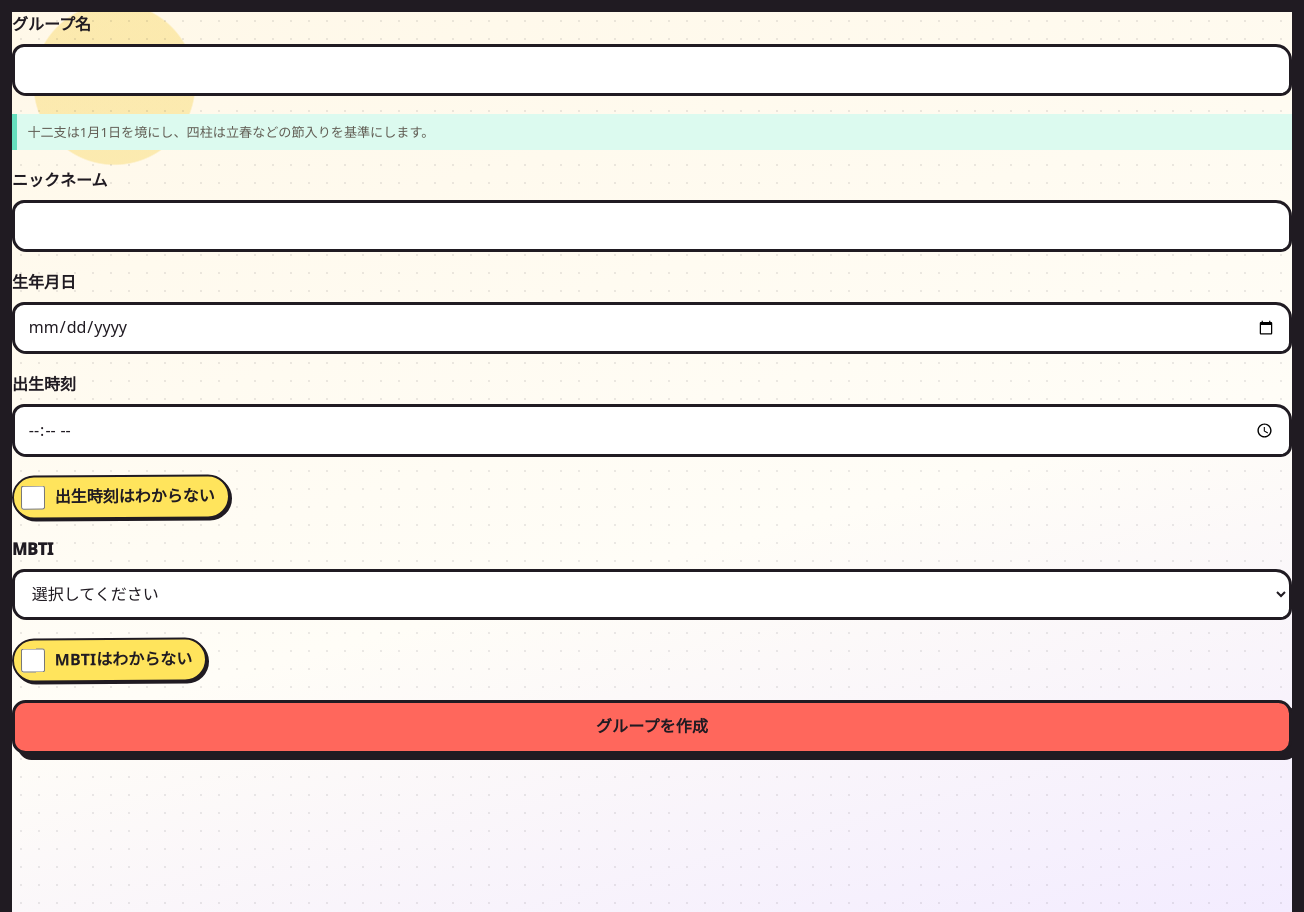
Test case: CreateGroupForm › keeps retry data only in React memory after a repository failure
Type "  なかまたち  " into the field labelled "グループ名" at (652, 70), box x1=12 y1=44 x2=1292 y2=96
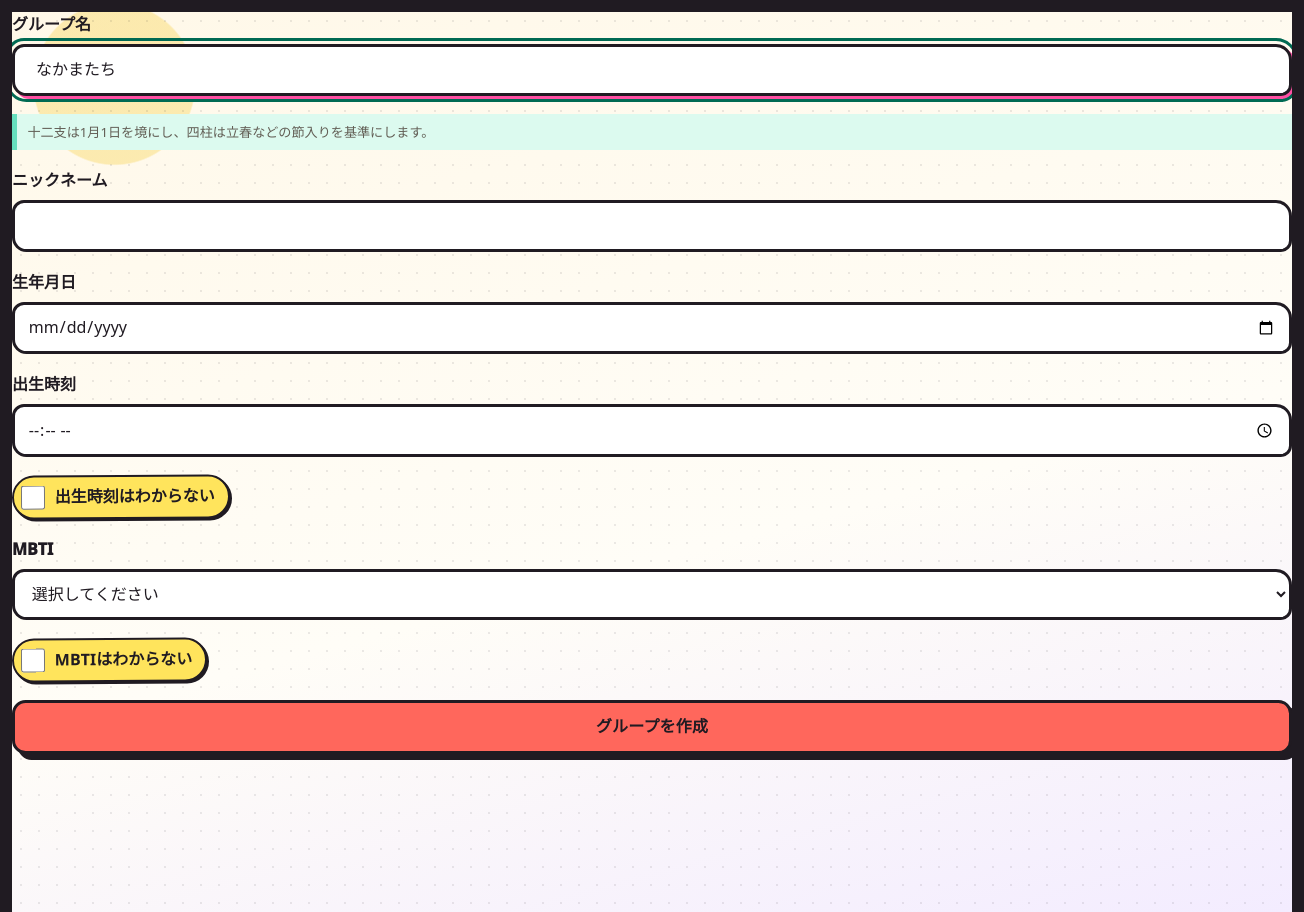
Type "  もふ  " into the field labelled "ニックネーム" at (652, 226), box x1=12 y1=200 x2=1292 y2=252
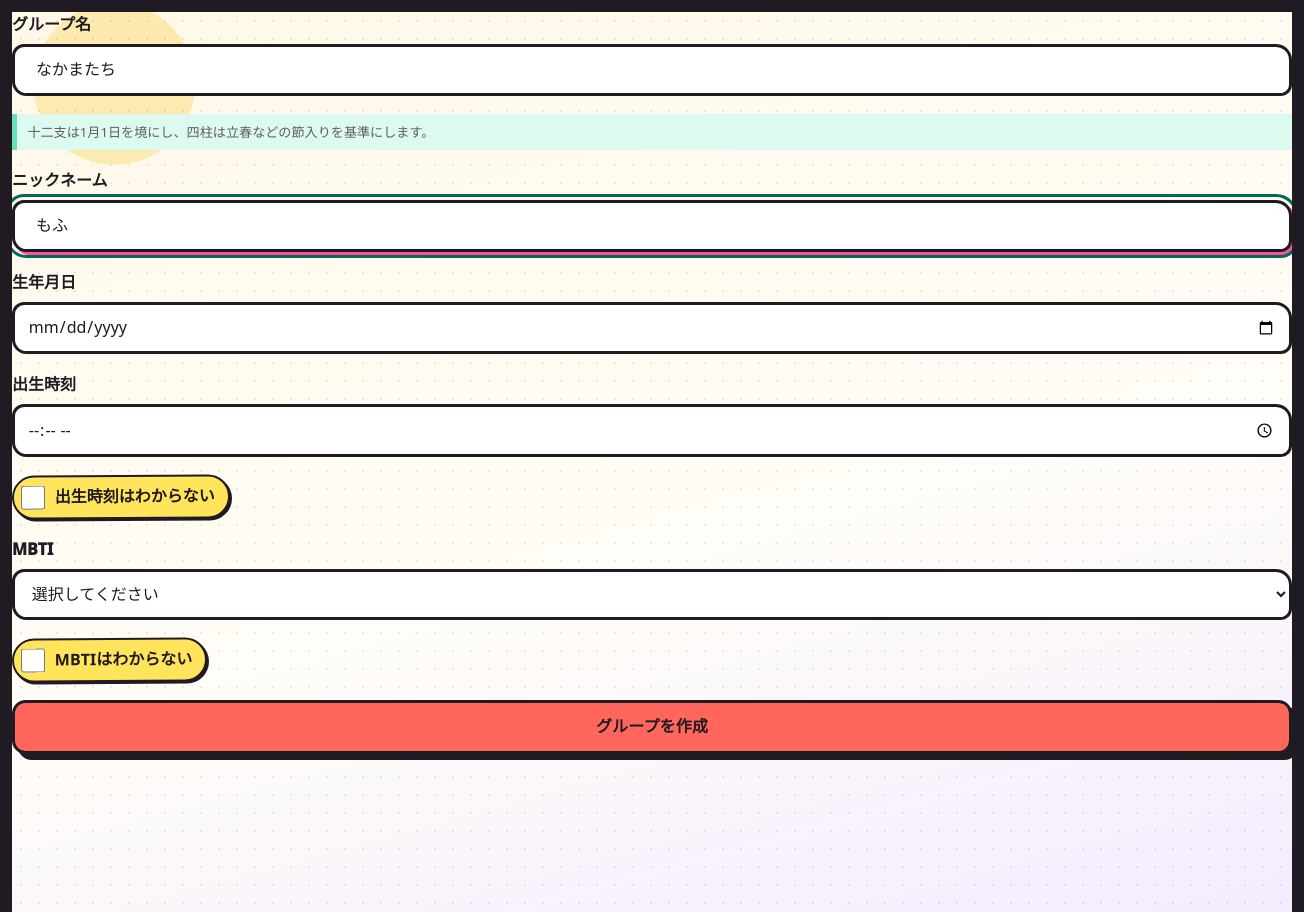
Type "2000-02-29" into the date field labelled "生年月日" at (652, 328), box x1=12 y1=302 x2=1292 y2=354
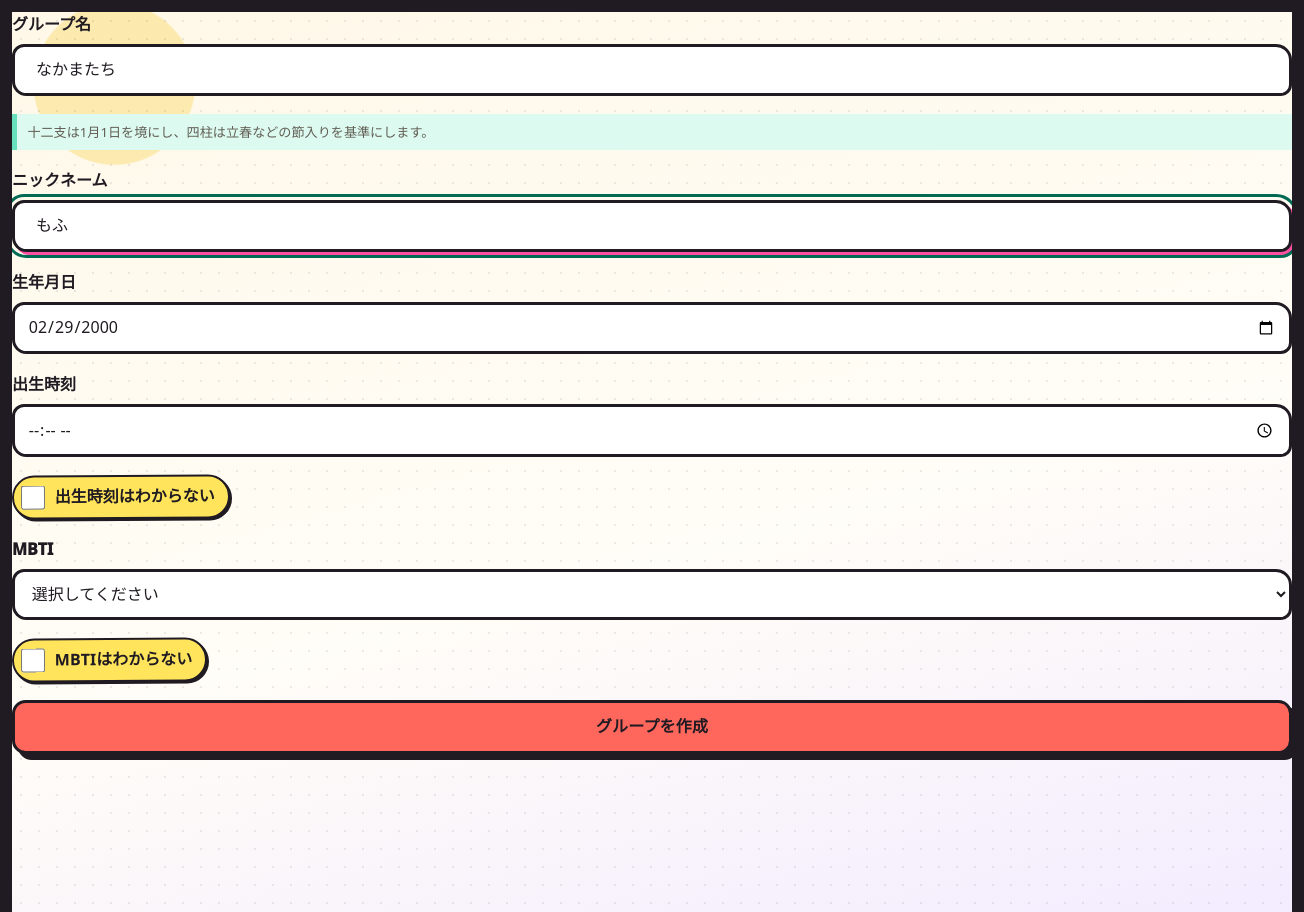
Type "09:05" into the time field labelled "出生時刻" at (652, 431), box x1=12 y1=404 x2=1292 y2=457
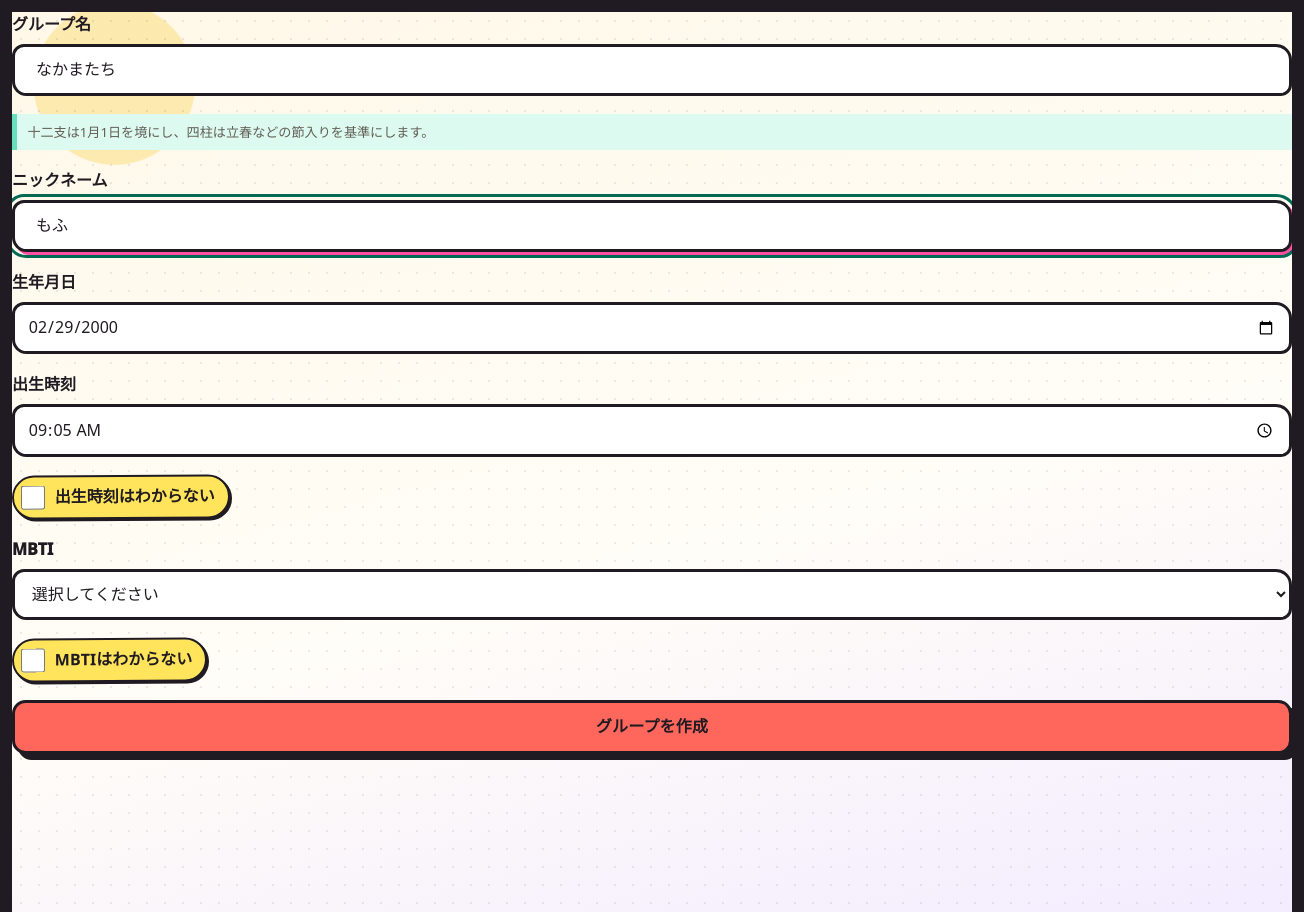
Select "ENFP" in the dropdown labelled "MBTI" at (652, 594), box x1=12 y1=569 x2=1292 y2=620
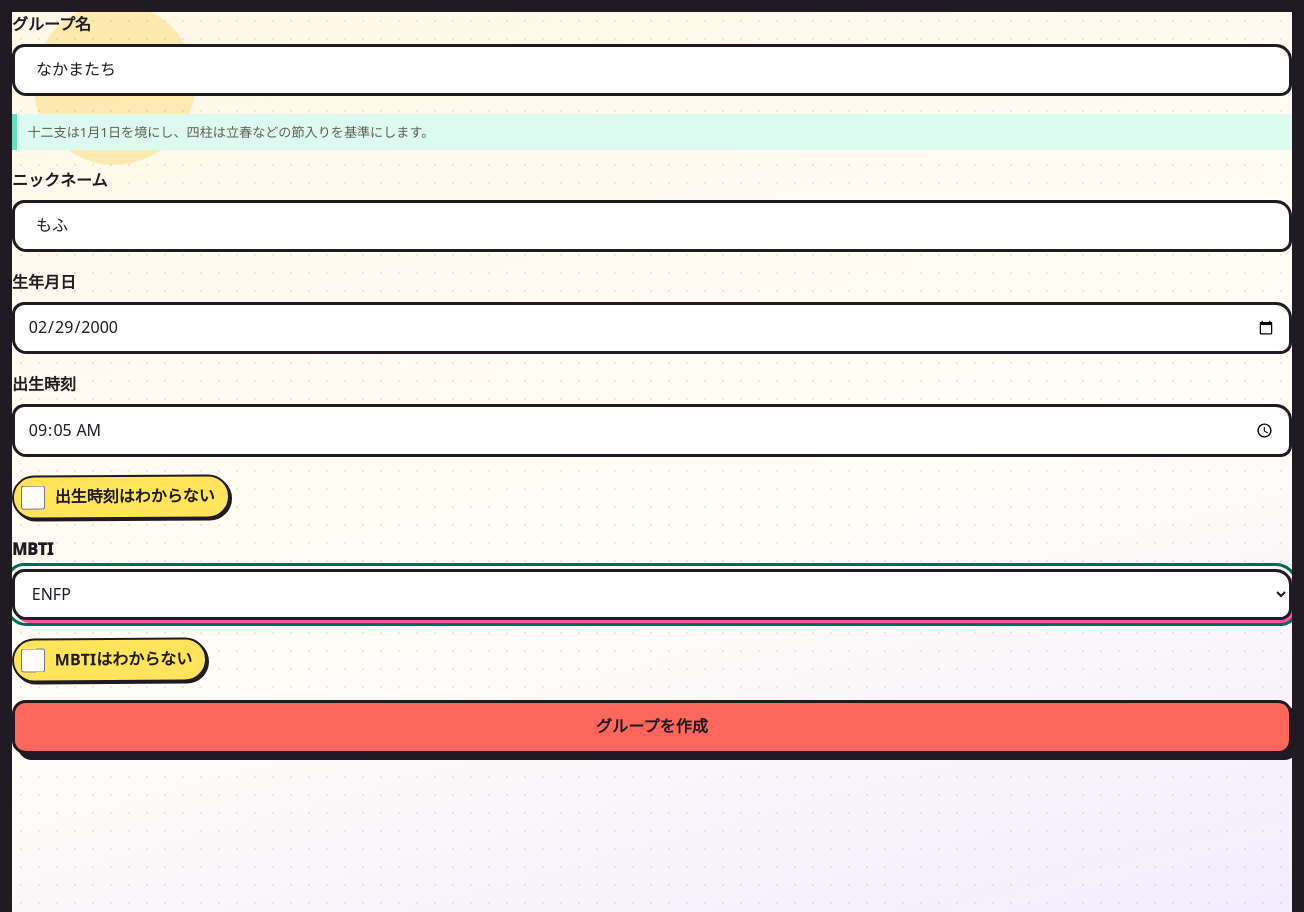
Click the button "グループを作成" at (652, 727), box x1=12 y1=700 x2=1292 y2=754
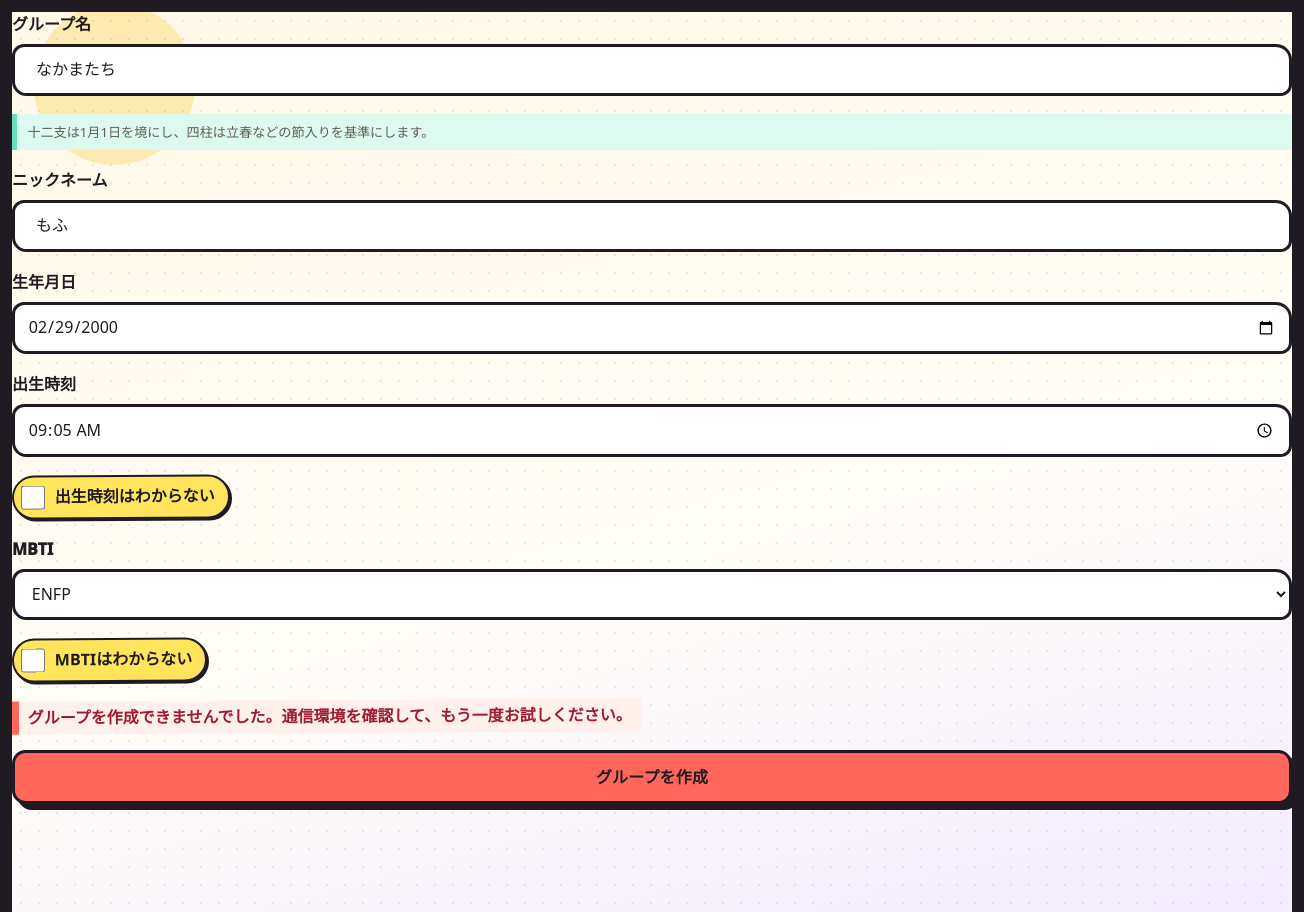
Expected: the message reads "グループを作成できませんでした。通信環境を確認して、もう一度お試しください。", x1=28 y1=702 x2=632 y2=728
